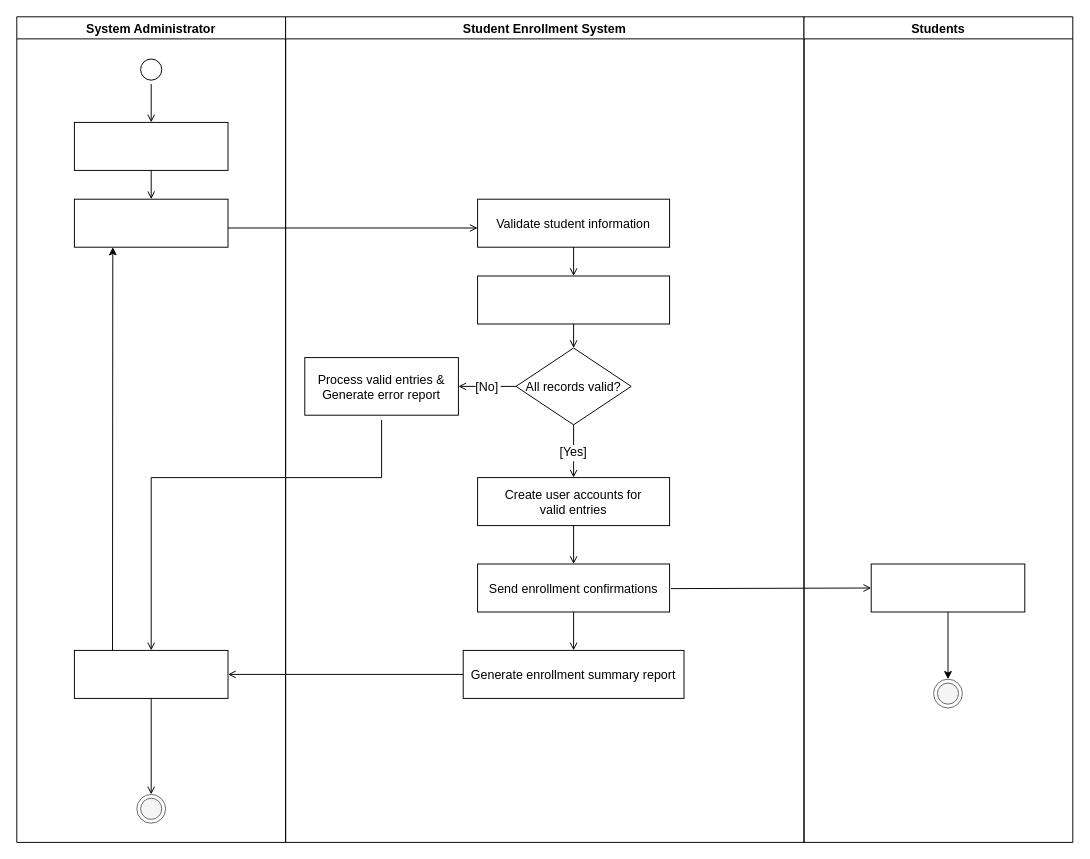
Some shapes in this 1090 by 859 pixel diagram are drawn without their labels. Each missing label, with the centre of its shape:
Access bulk enrollment module: the point at 150,145
Check for duplicates: the point at 573,299
Receive enrollment confirmation: the point at 947,587
Review bulk enrollment summary report: the point at 150,673
Upload student data file (CSV/Excel): the point at 150,222
